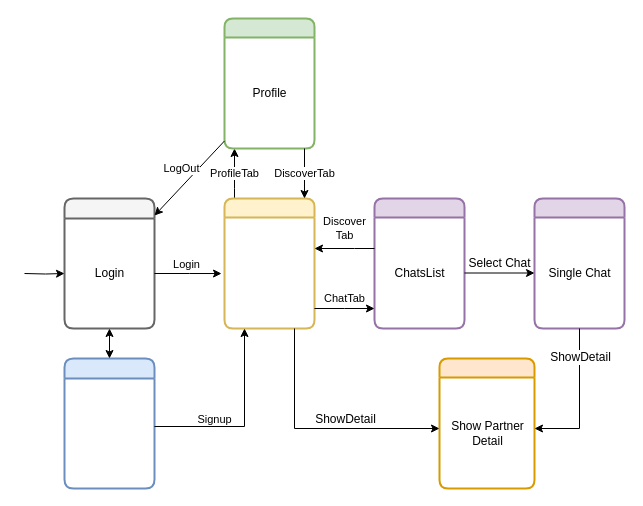
This 643x506 diagram has some shape labels left out. Here are the shapes that lost their labels. From the top down, the centre of each, then its label:
the point at 269,263: Discover
the point at 109,423: Register
